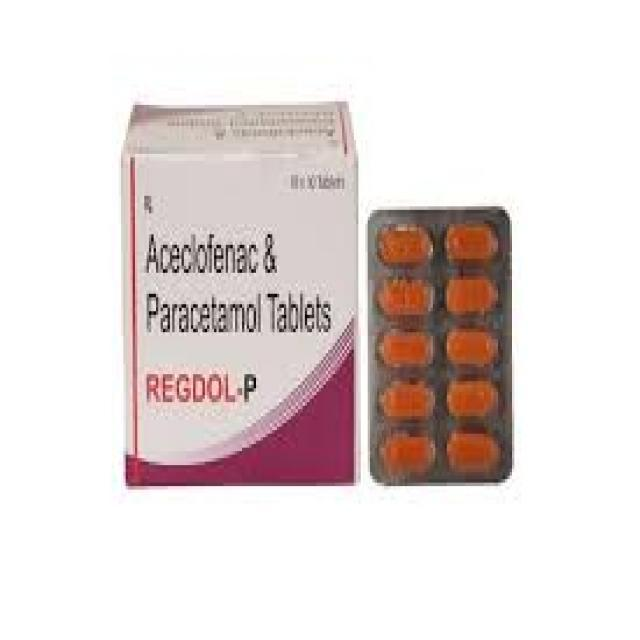authentic: (111, 92, 365, 500), (362, 196, 520, 494)
